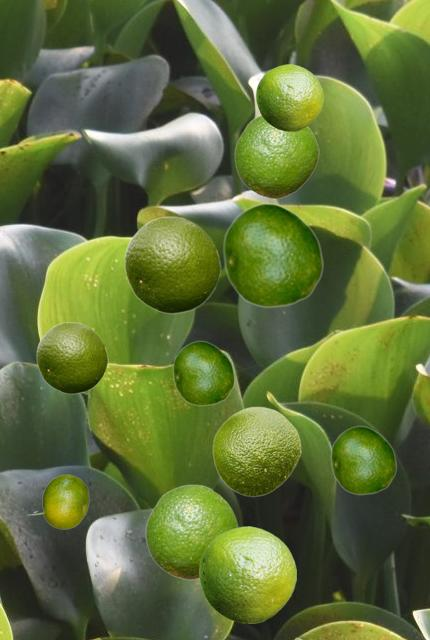calamansi: (222, 202, 323, 307), (124, 215, 220, 313), (199, 526, 295, 622), (145, 484, 237, 579), (212, 406, 300, 496), (234, 115, 318, 198), (36, 321, 107, 393), (330, 425, 396, 494), (256, 64, 322, 130), (172, 340, 234, 405), (26, 474, 88, 528)
